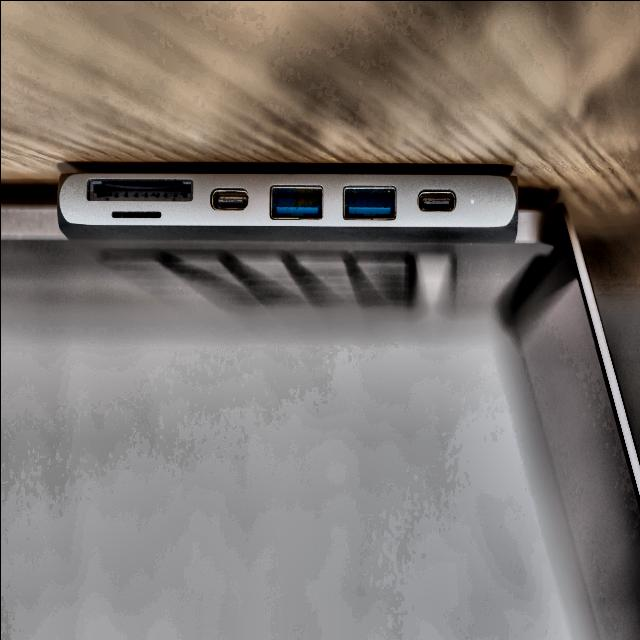HUB: (56, 171, 517, 242)
